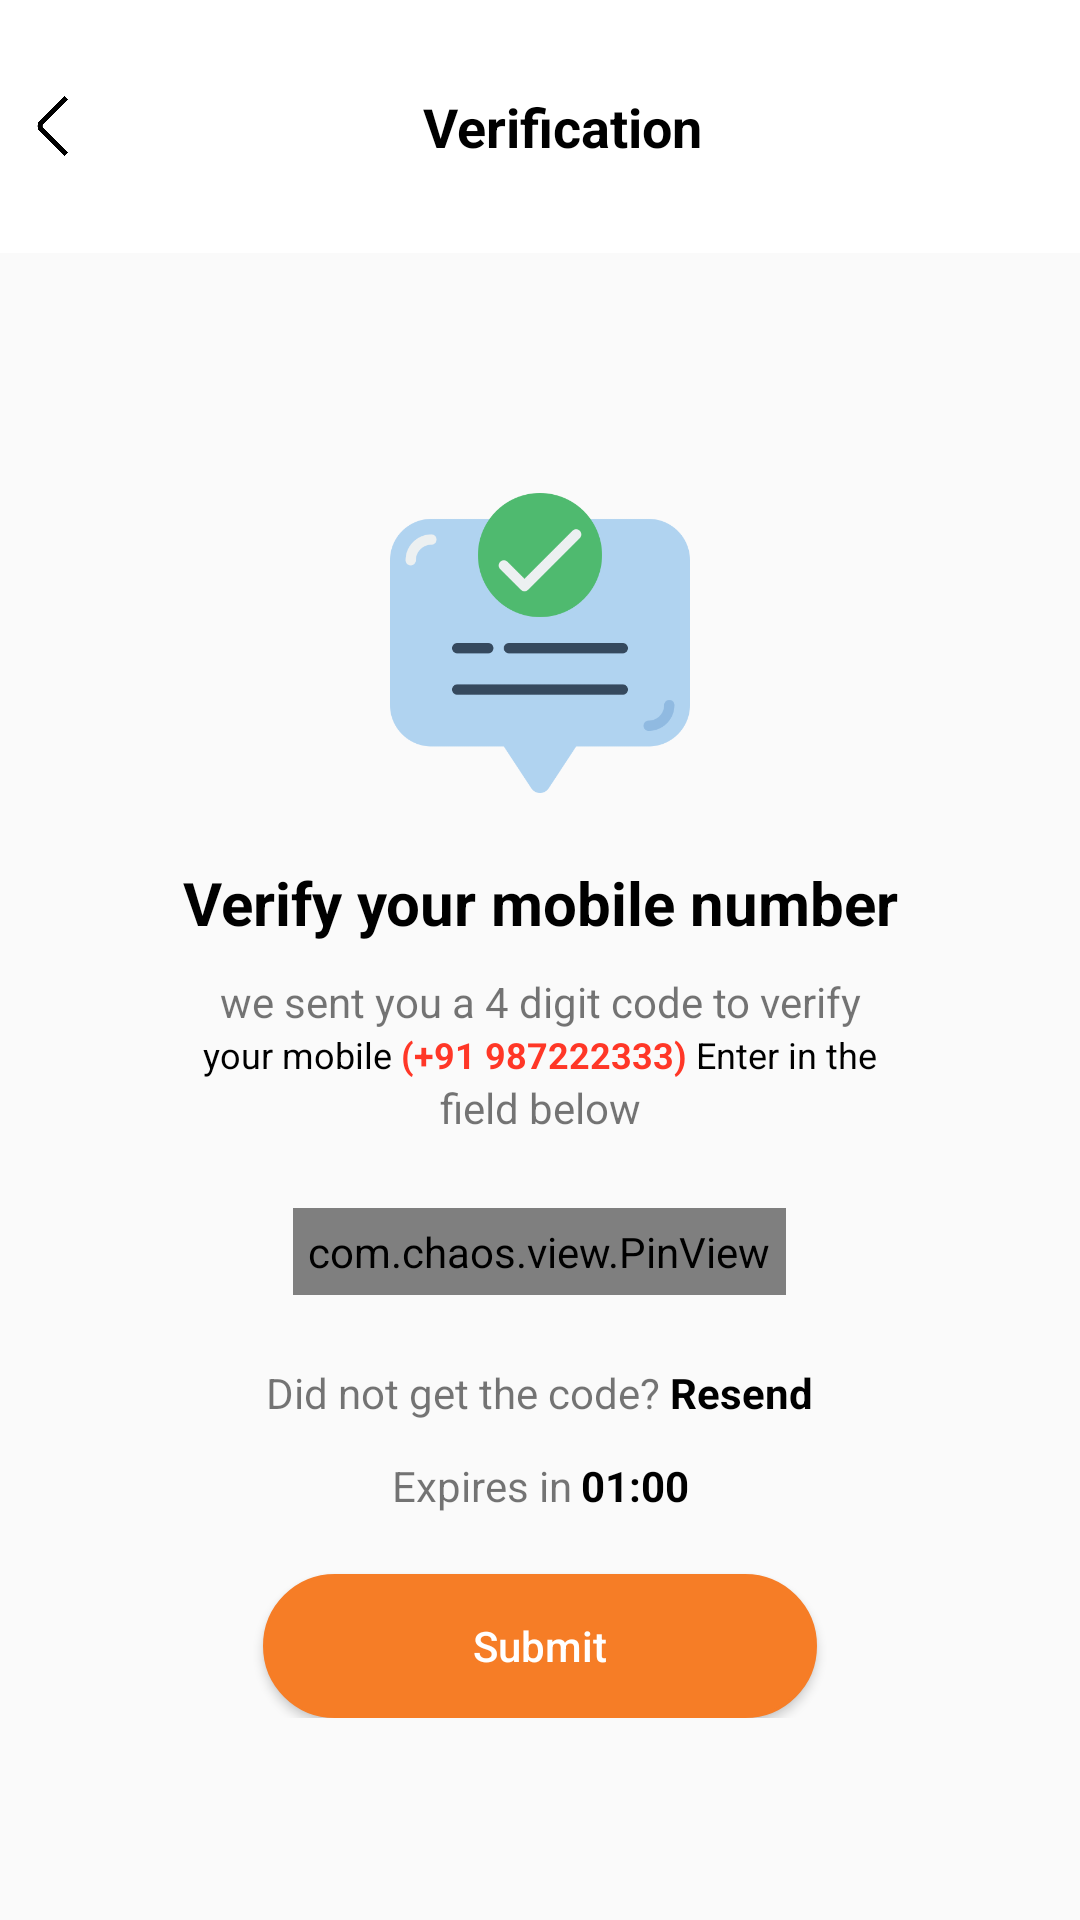

Locate icon controls on the screen. Image size 1080×1920, boxes as (x1, y1, x2, y2).
back: (37, 96, 68, 156)
